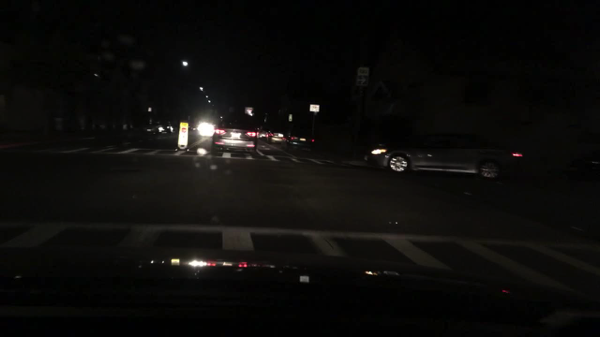car: (362, 132, 525, 179), (211, 120, 259, 155), (282, 129, 315, 155), (264, 128, 286, 144), (141, 120, 165, 134), (256, 125, 267, 141), (161, 120, 173, 134), (200, 123, 212, 134), (189, 123, 198, 131)
traffic sign: (355, 65, 368, 87), (308, 105, 318, 112)
